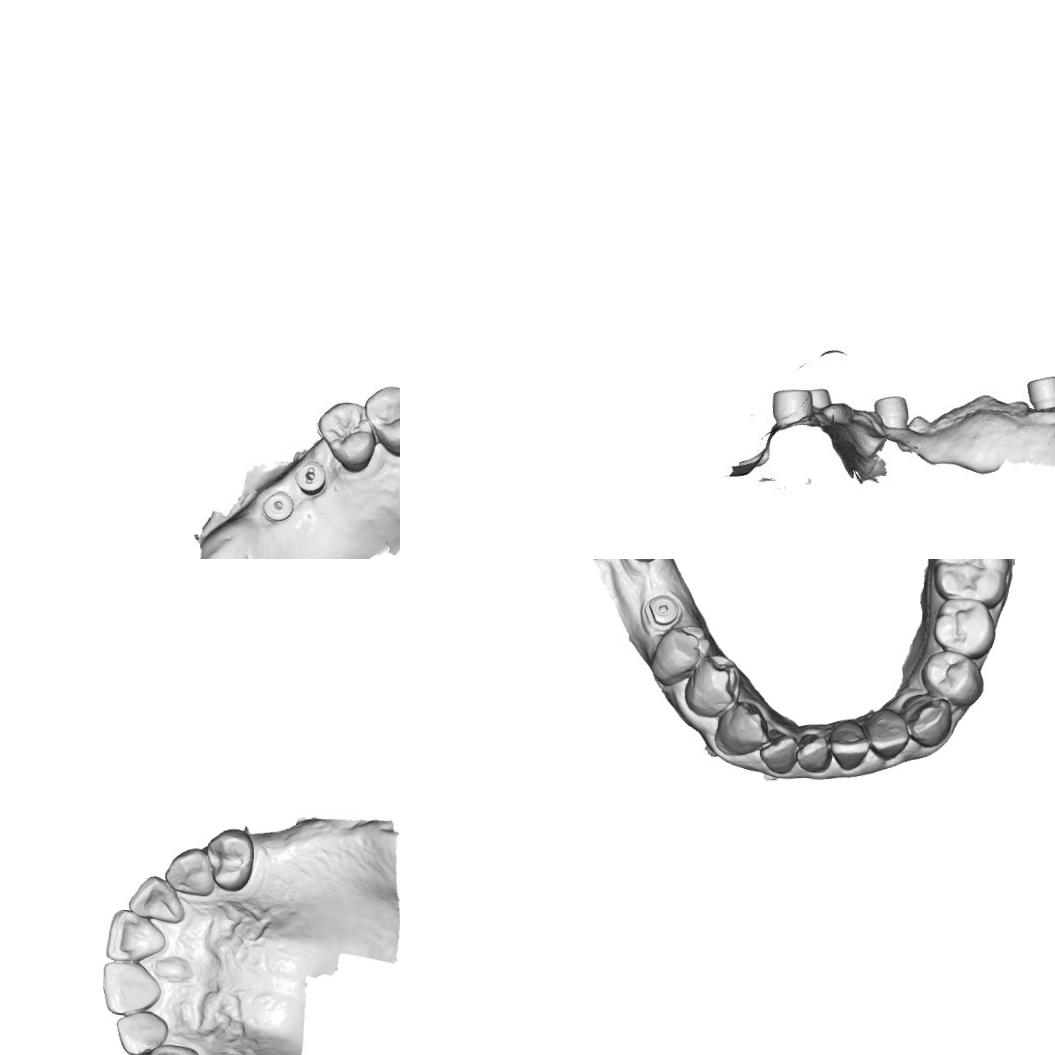canine: (712, 702, 768, 761), (162, 845, 216, 898), (904, 696, 954, 750), (145, 1041, 201, 1055)
implant: (764, 384, 814, 437), (868, 388, 918, 436), (638, 592, 685, 632), (1022, 368, 1055, 422), (260, 486, 296, 524), (809, 382, 836, 414)
implant_minus: (292, 459, 328, 497)
incisor: (100, 960, 164, 1017), (104, 907, 168, 964), (126, 873, 186, 926), (861, 708, 912, 762), (113, 1009, 170, 1055), (826, 717, 872, 774), (792, 731, 834, 778), (756, 734, 800, 778)
molar: (930, 559, 1014, 605)
premolar: (315, 398, 380, 474), (649, 619, 714, 686), (930, 596, 999, 659), (681, 652, 744, 720), (203, 826, 258, 894), (920, 648, 986, 704), (360, 383, 400, 458)
